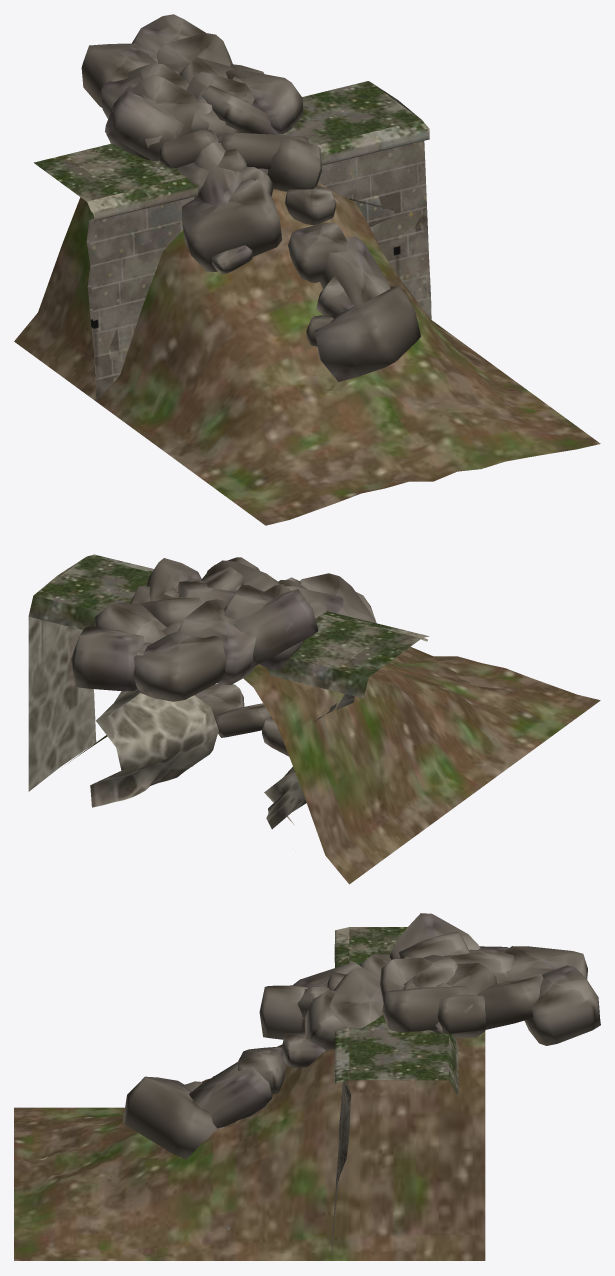
Rendered from starfort_counterscarp_hero.glb.
The picture shows the model from 3 angles, top to bottom: view 1: azimuth 30°, elevation 25°; view 2: azimuth 150°, elevation 25°; view 3: azimuth 270°, elevation 25°; orthographic projection. The views are drawn at different scales.
Parts seen in each view (by area): view 1: breached, intact, cracked; view 2: breached, intact, cracked, endcap_b; view 3: breached, intact, cracked.
Part boxes in pixels (x1,y1,x2,y2): breached: (14,14,600,525); intact: (34,81,429,356); cracked: (34,81,455,398); breached: (31,557,600,884); intact: (28,555,429,698); cracked: (29,554,428,756); endcap_b: (28,558,96,791); breached: (14,913,600,1260); intact: (331,927,458,1257); cracked: (226,927,458,1253).
Size of what is drawn, in the model's own units: 4.03 by 2.99 by 6.48.
Materials: 1 (1 with a texture image).
